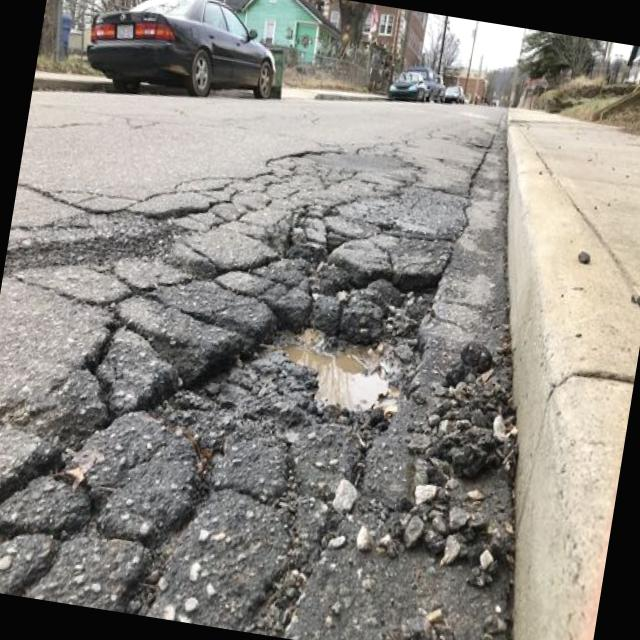bad-road: (0, 93, 508, 640)
